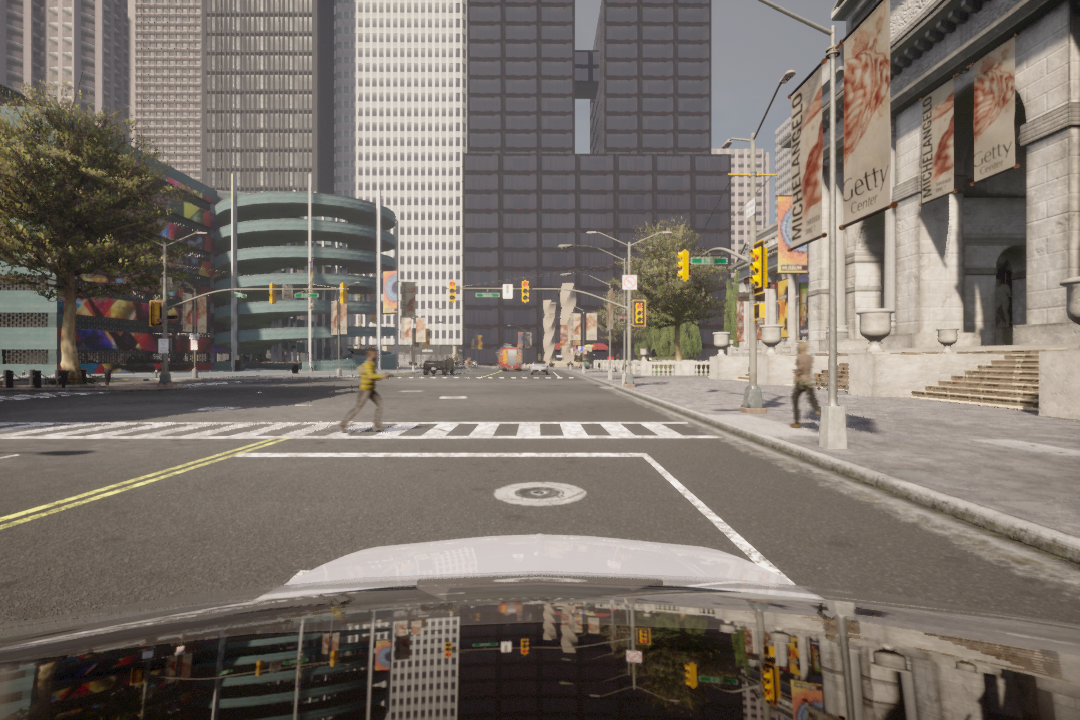TrafficLight: (747, 247, 768, 289), (631, 299, 647, 329), (676, 251, 689, 281), (522, 280, 534, 304), (447, 281, 457, 303)
TrafficSign: (624, 273, 640, 294)
walkside: (1, 417, 768, 445)
